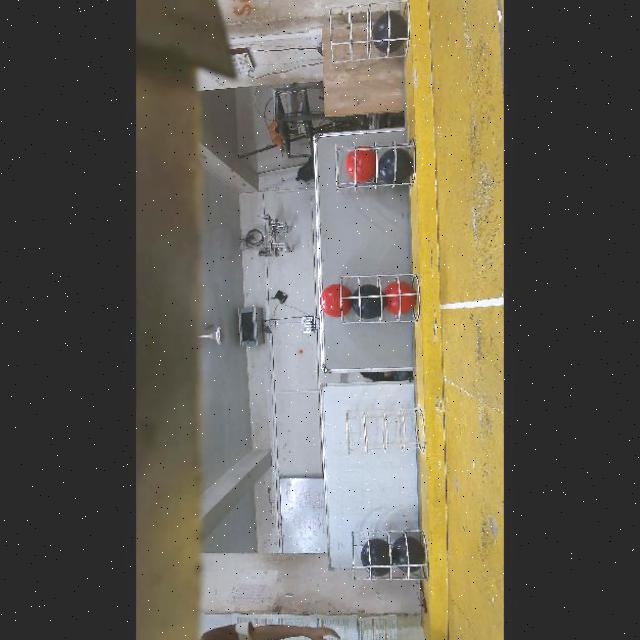P: (372, 12, 408, 54), (391, 535, 425, 575), (378, 148, 414, 182), (360, 537, 392, 575), (350, 284, 383, 319)
R: (320, 283, 352, 318), (383, 280, 415, 314), (344, 149, 378, 181)
S: (342, 522, 430, 584), (326, 6, 408, 66), (341, 406, 424, 458), (328, 138, 414, 186), (336, 270, 414, 322)
